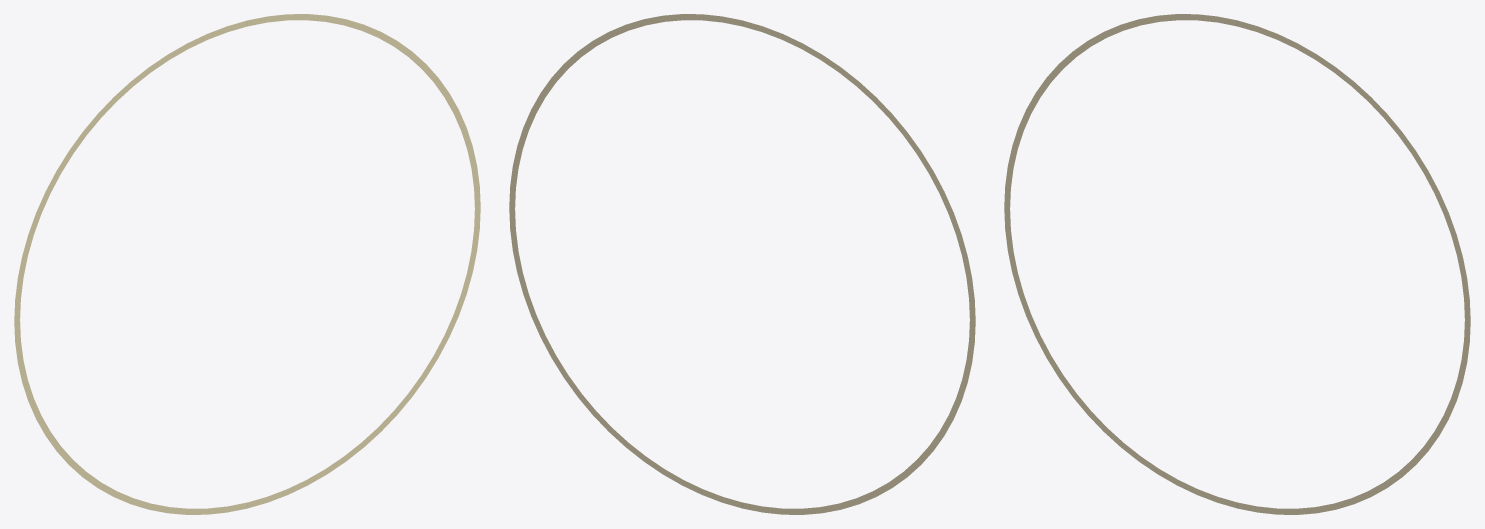
File: Scenery_0178.glb
3 renders of one model, left to right at view 1: azimuth 30°, elevation 25°; view 2: azimuth 150°, elevation 25°; view 3: azimuth 330°, elevation 25°, orthographic.
Visible parts, largest first — view 1: Mesh; view 2: Mesh; view 3: Mesh.
Boxes of the visible parts, <box> form: Mesh: <box>14,14,480,514</box>; Mesh: <box>509,14,975,514</box>; Mesh: <box>1004,14,1470,514</box>.
Bounding box in the file's own units: 24 × 24 × 0.
